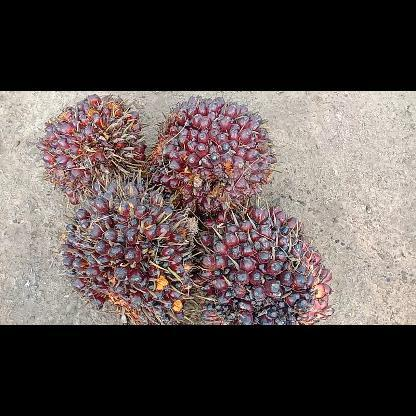Kurang masak: (58, 170, 200, 324), (193, 200, 339, 324), (35, 92, 149, 206)
TBS masak: (150, 94, 278, 216)
